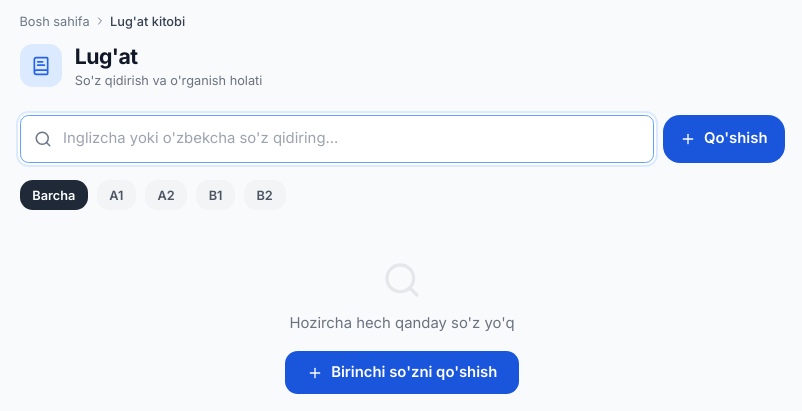
Test case: Dictionary — page integration tests › shows no results state when search returns empty
Step 1. Type "zzzzz" into the search field with placeholder "Inglizcha yoki o'zbekcha so'z qidiring..." → (337, 139), box [20,114,654,163]
Wait 400 ms
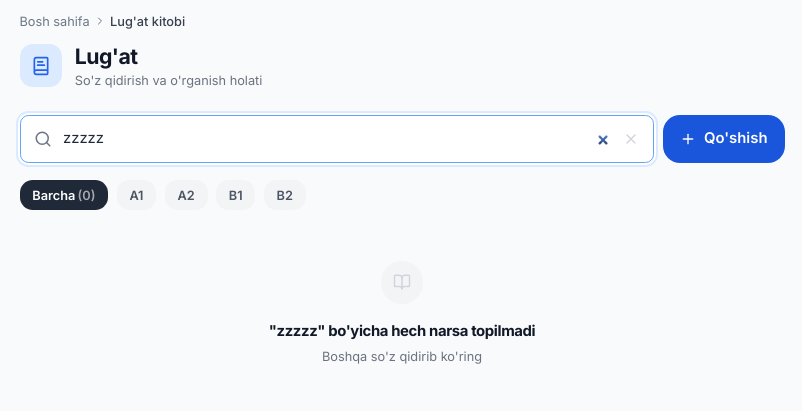
Expected: the heading "\"zzzzz\" bo'yicha hech narsa topilmadi" is shown, [269,320,535,342]
